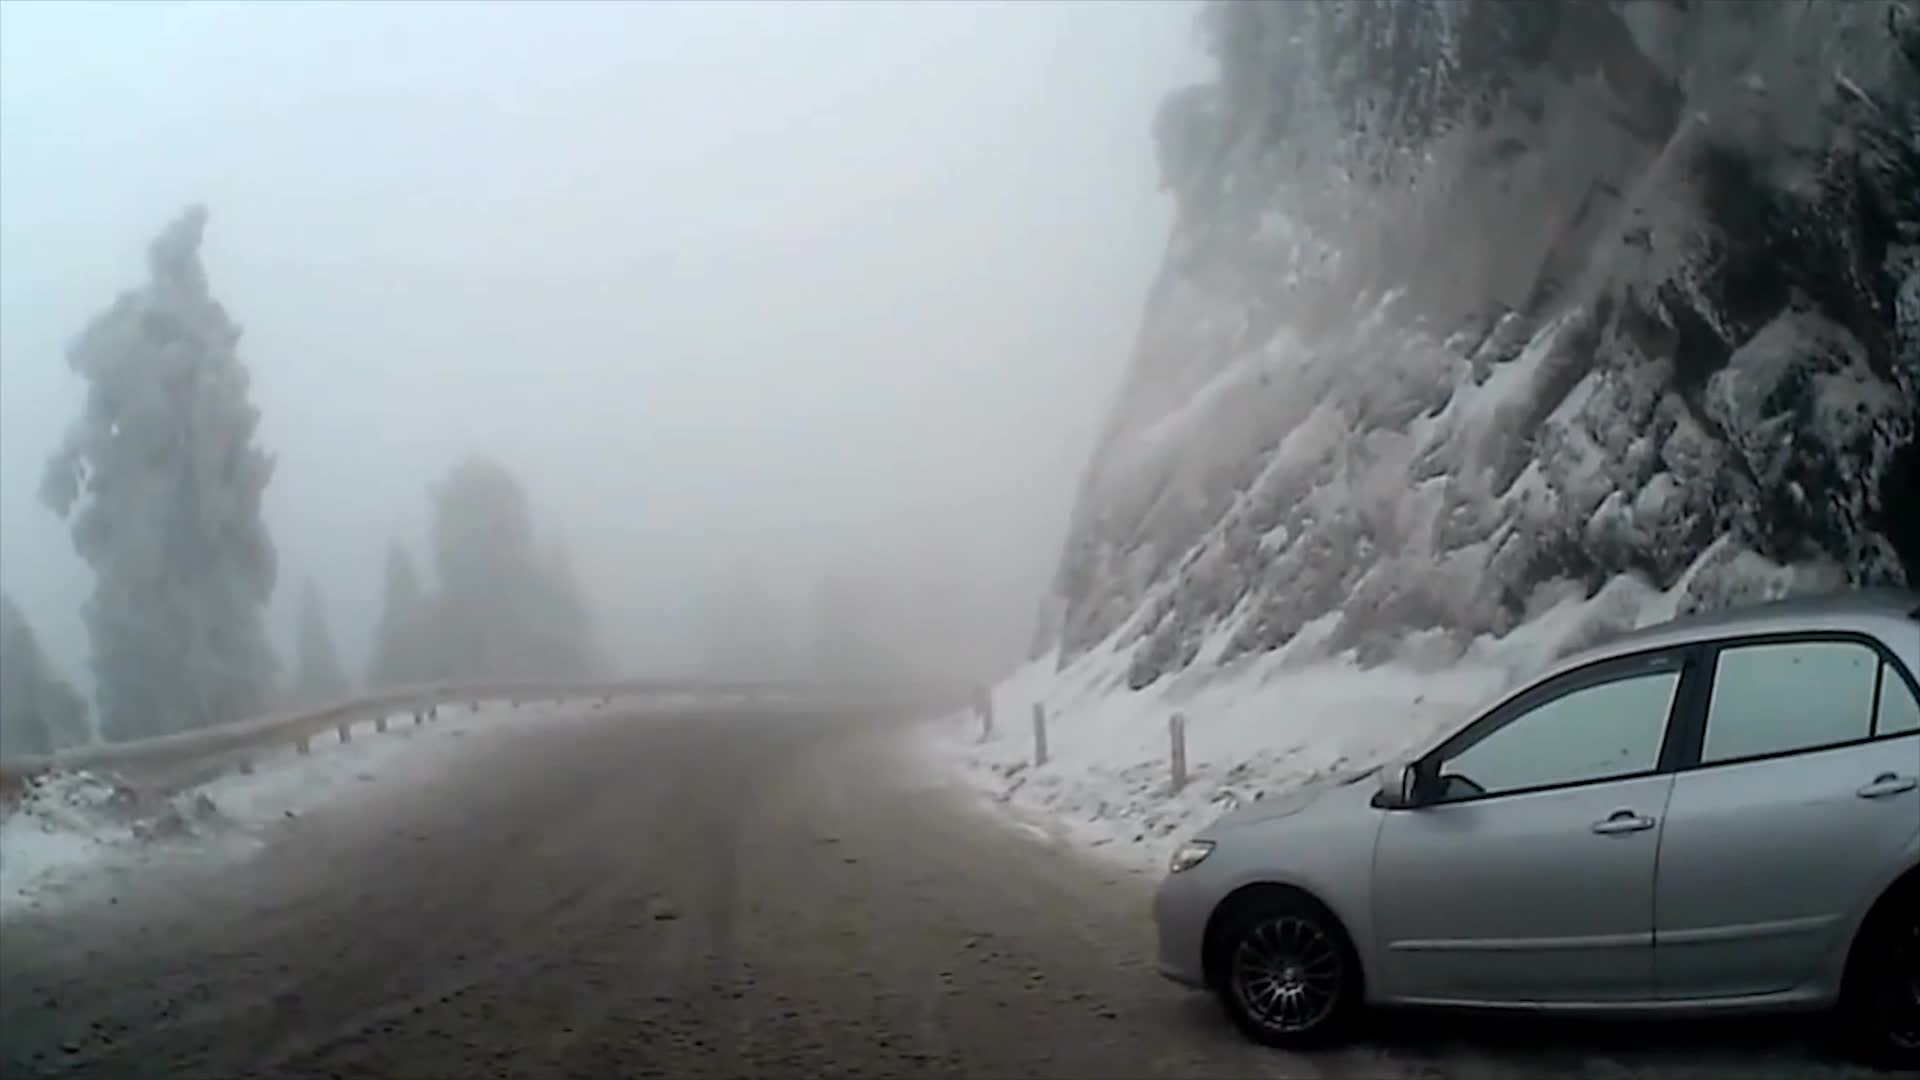vehicle: (1150, 588, 1920, 1073)
